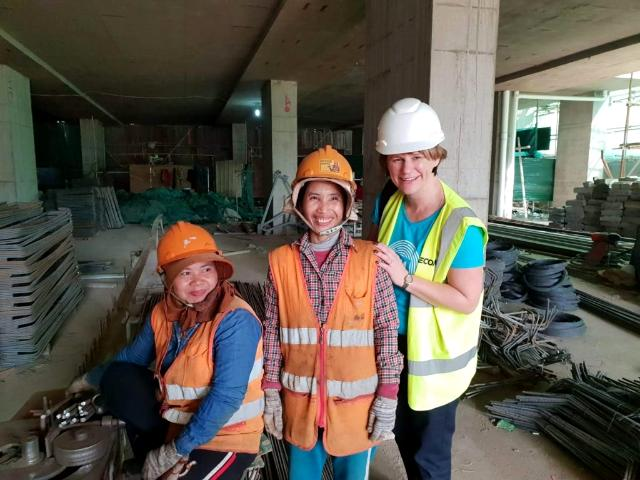helmet: (368, 98, 446, 152), (294, 144, 356, 190), (158, 223, 224, 260)
vest: (380, 186, 488, 402), (273, 244, 381, 444), (142, 298, 260, 450)
